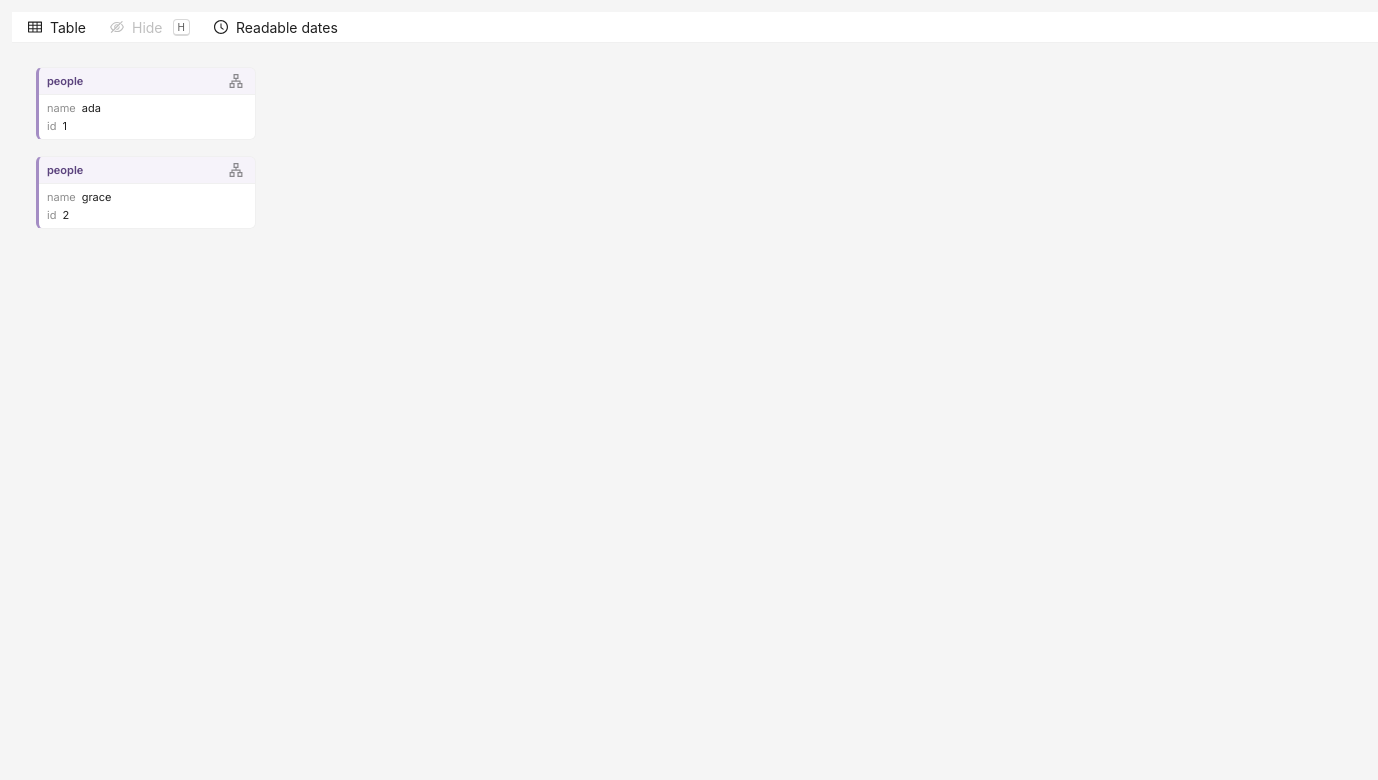
Test case: clicking the canvas lets go of the picked cards
Click the element named "people 2".
click(146, 192)  # box [36,156,256,229]
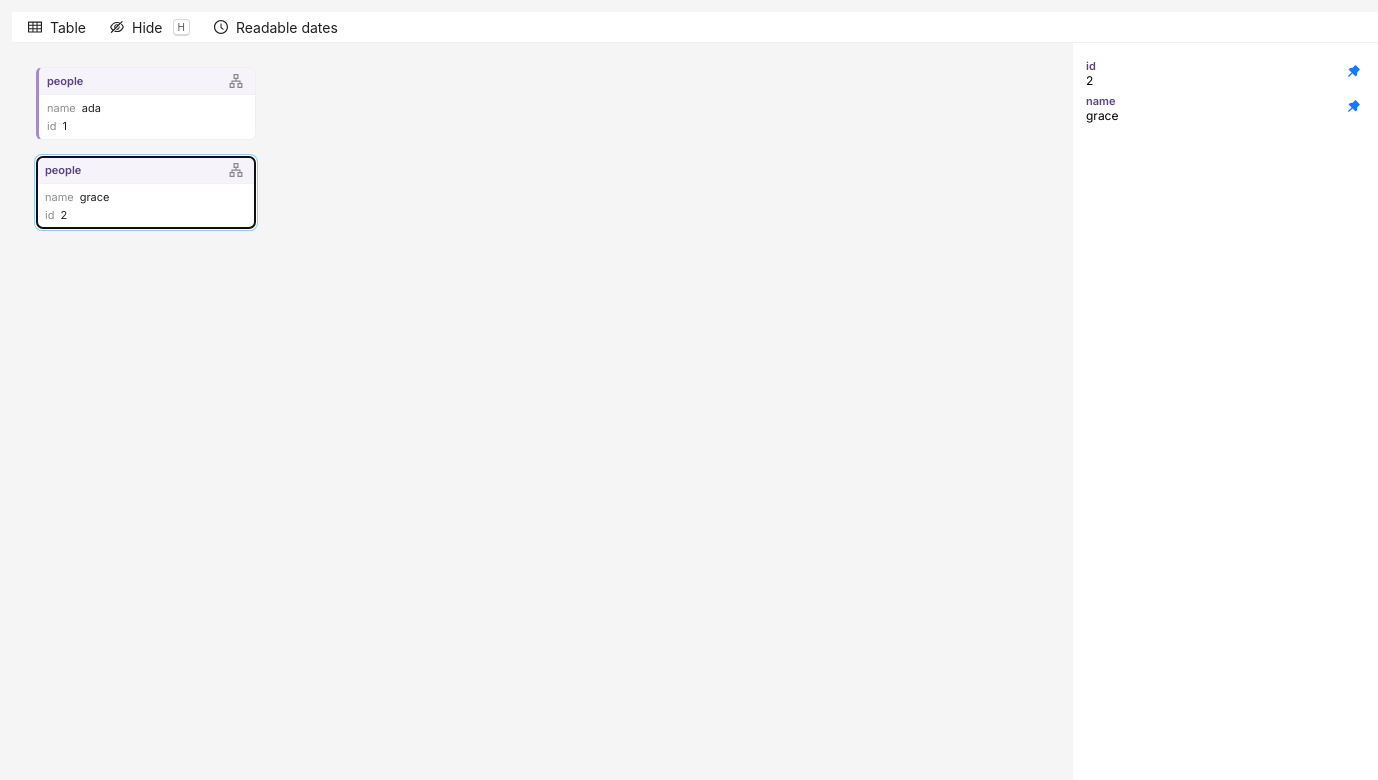
Click the element named "Graph of related rows".
click(542, 412)  # box [12,43,1073,779]
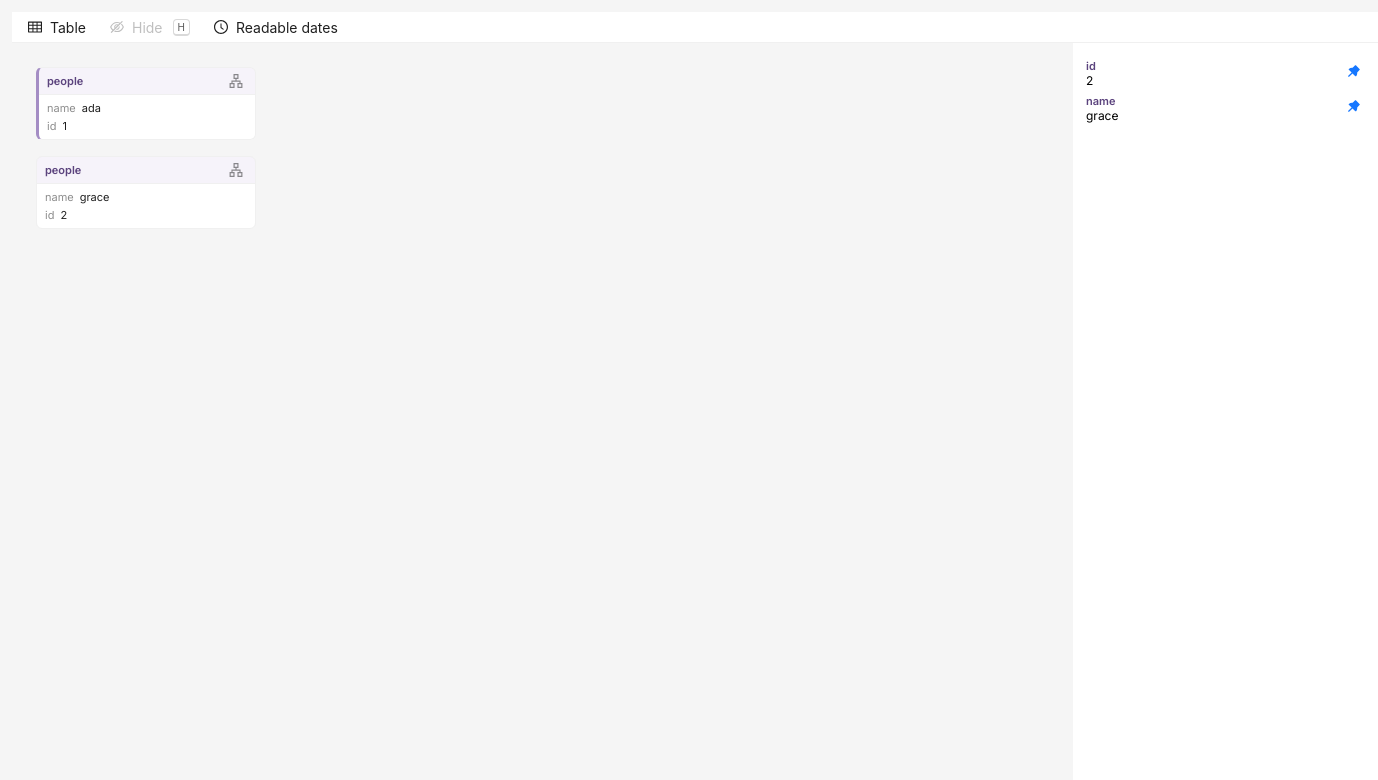
Expected: the button "Hide H" is disabled, [102,15,198,39]
